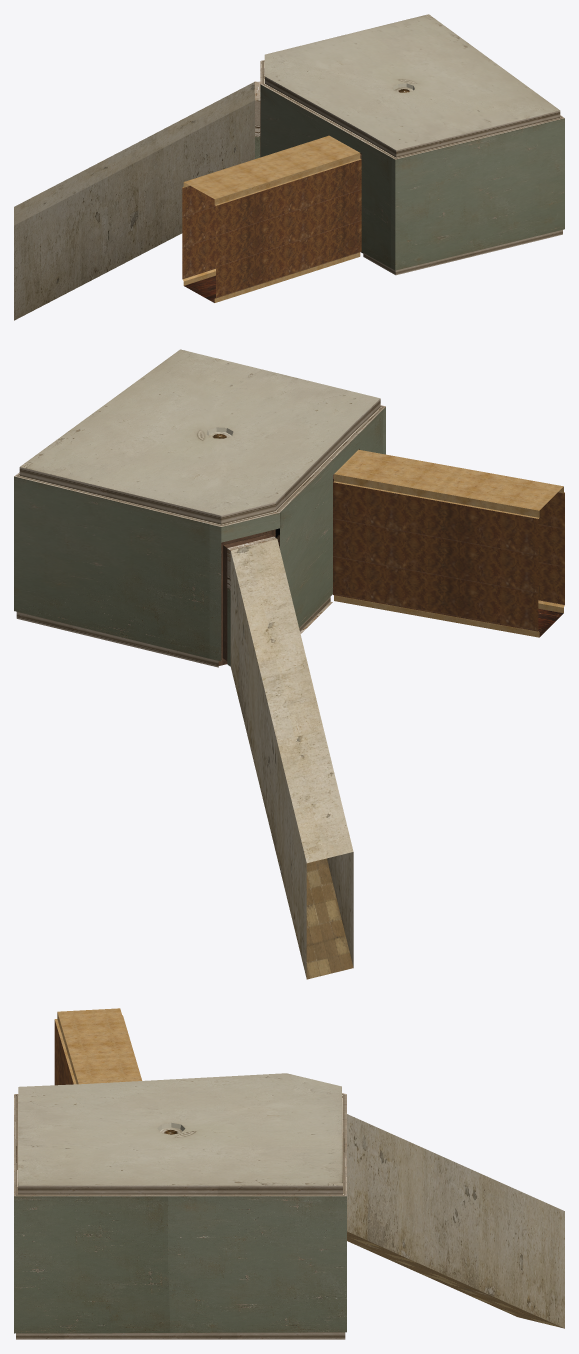
The picture shows the model from 3 angles, top to bottom: view 1: azimuth 30°, elevation 25°; view 2: azimuth 150°, elevation 25°; view 3: azimuth 270°, elevation 25°; orthographic projection. The views are drawn at different scales.
Visible parts, largest first — view 1: waking room, waking room.006, waking room.001; view 2: waking room, waking room.001, waking room.006; view 3: waking room, waking room.001, waking room.006.
Part boxes in pixels (<box>): waking room: <box>182,60,564,302</box>; waking room.006: <box>14,82,254,320</box>; waking room.001: <box>264,14,559,150</box>; waking room: <box>14,399,564,667</box>; waking room.001: <box>20,349,380,515</box>; waking room.006: <box>230,539,353,979</box>; waking room: <box>14,1008,346,1339</box>; waking room.001: <box>18,1073,342,1185</box>; waking room.006: <box>347,1114,564,1328</box>.
Bounding box in the file's own units: 1445 × 1092 × 1610.
Materials: 7 (7 with a texture image).
